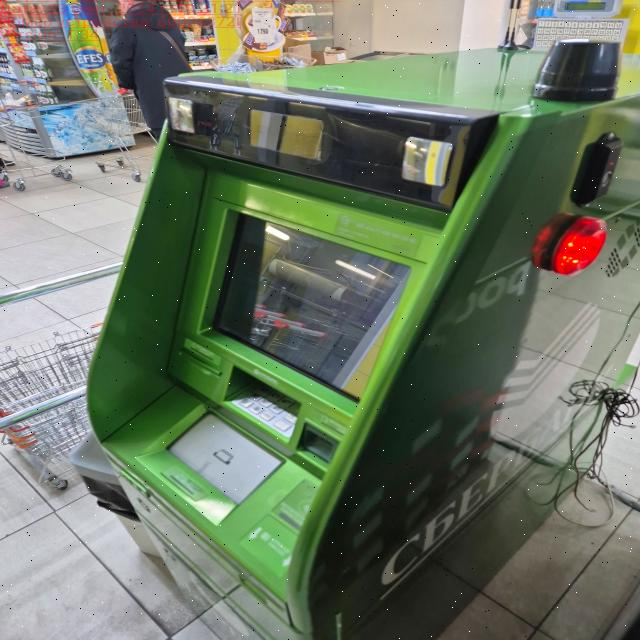bank: (94, 47, 640, 640)
